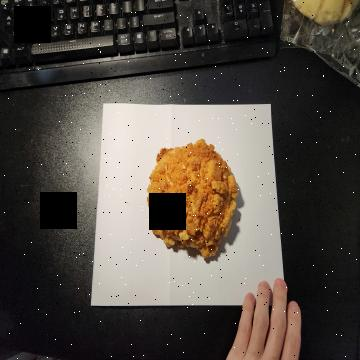soboru_bread: (144, 138, 241, 266)
